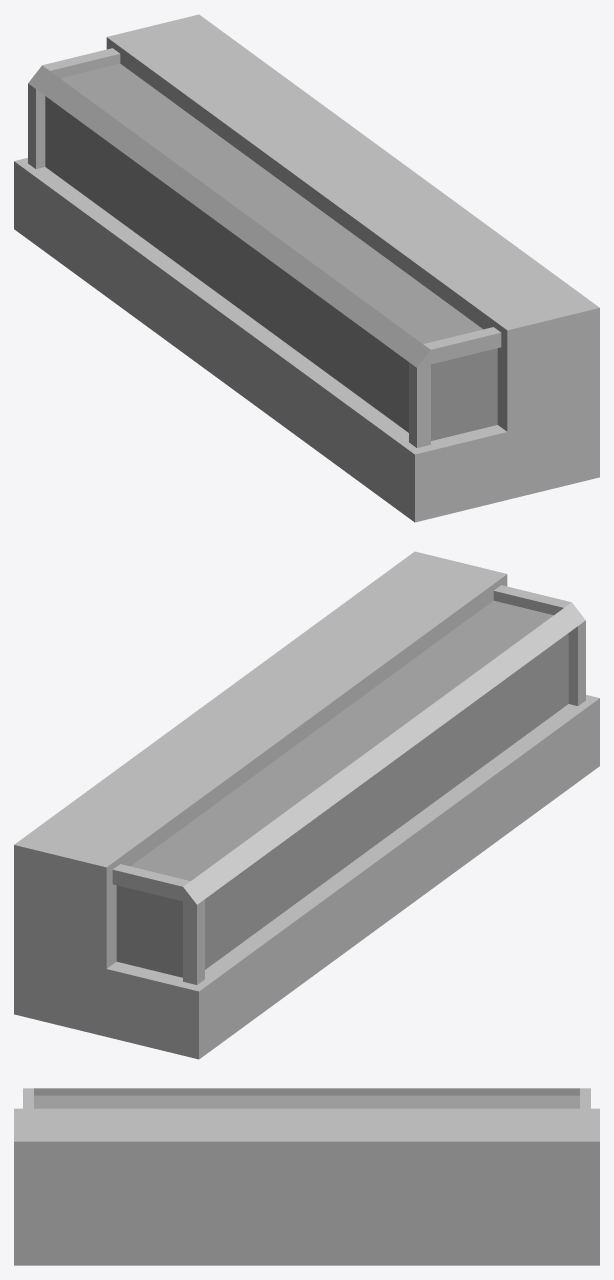
File: Lamp_04.FBX
3 views of the same model, one above another, from view 1: azimuth 30°, elevation 25°; view 2: azimuth 150°, elevation 25°; view 3: azimuth 270°, elevation 25° (orthographic). The views are drawn at different scales.
Visible parts, largest first — view 1: Lamp_04_LOD0; view 2: Lamp_04_LOD0; view 3: Lamp_04_LOD0.
Boxes of the visible parts, x1,y1,x2,y2 form: Lamp_04_LOD0: [14, 14, 599, 522]; Lamp_04_LOD0: [14, 551, 599, 1059]; Lamp_04_LOD0: [14, 1088, 599, 1265].
Size of what is drawn, in the model's own units: 8 by 7 by 30.
